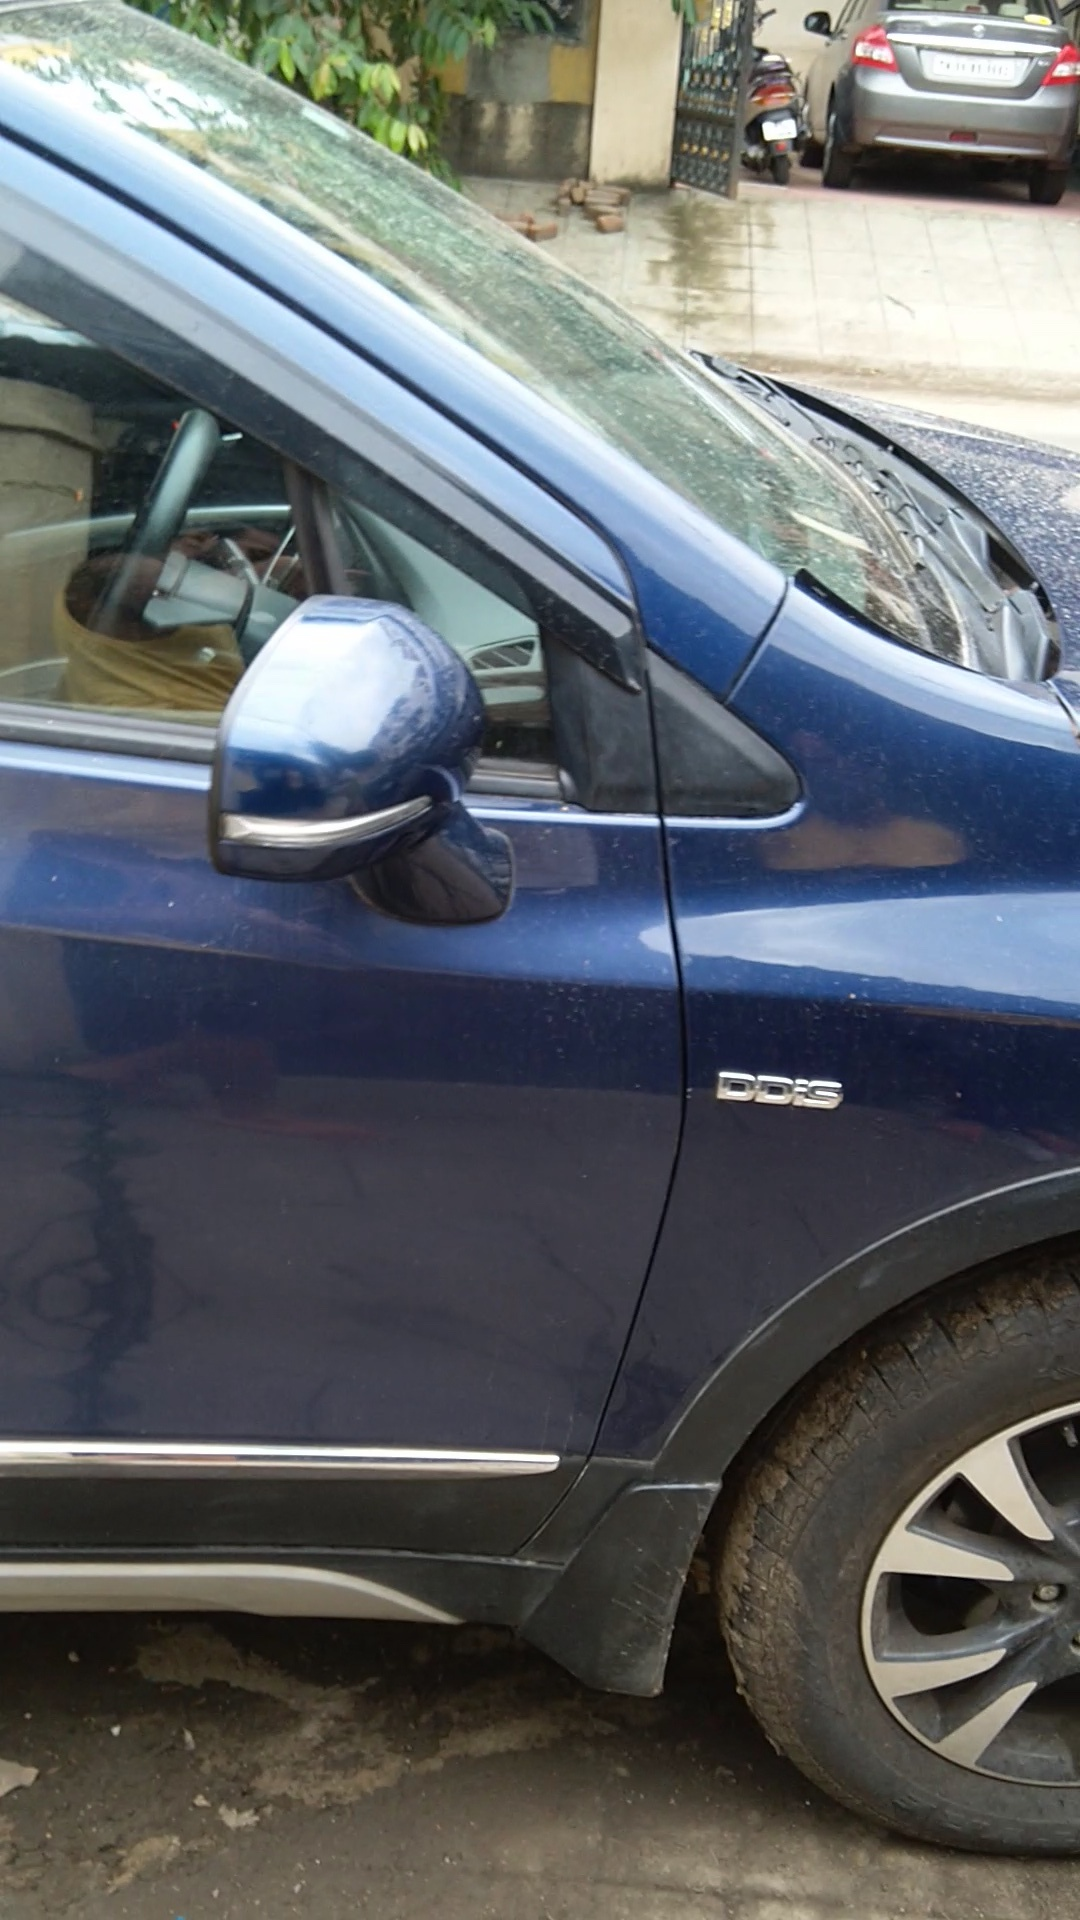ovr_mirror: (185, 572, 574, 963)
